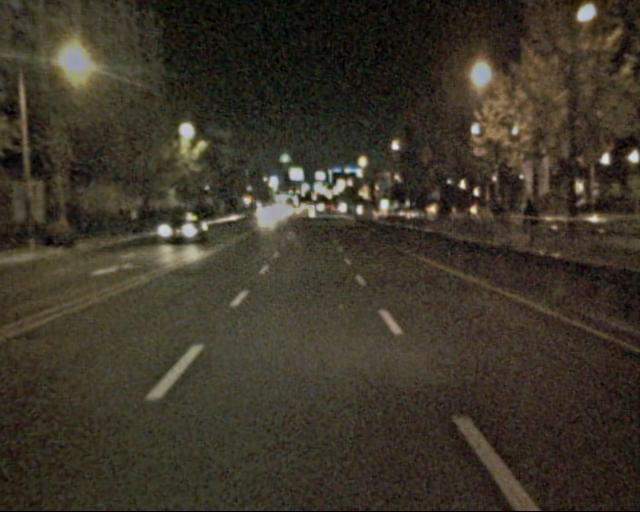person: (520, 192, 542, 245), (489, 196, 508, 242)
